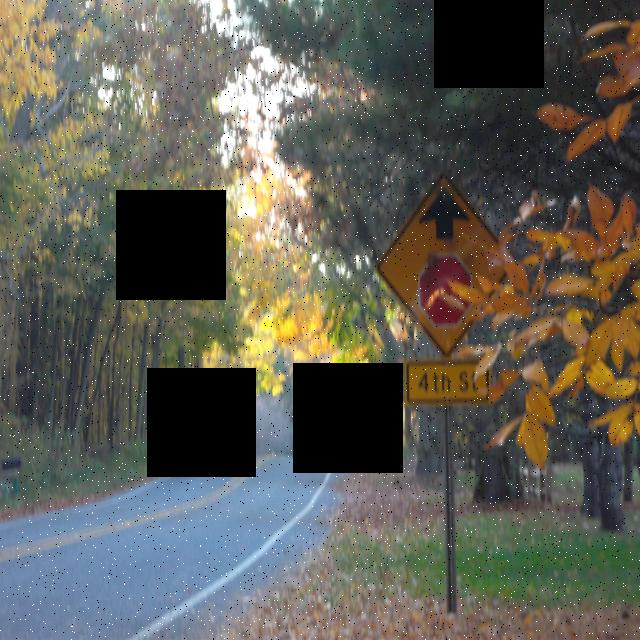regulatory: (396, 352, 495, 412)
stop: (418, 249, 474, 325)
warning: (372, 184, 522, 357)
